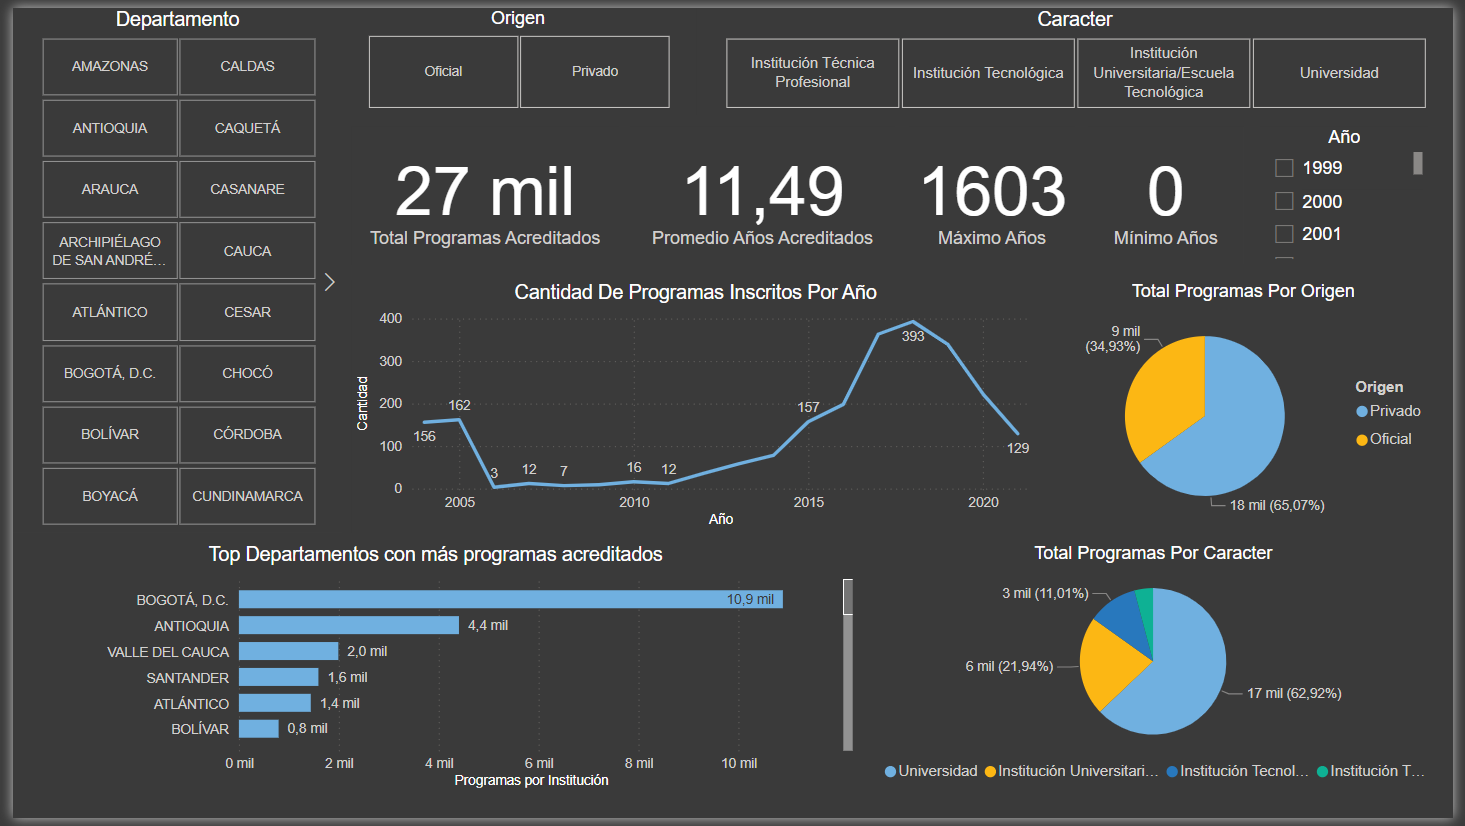

The dashboard page shown, as its layout file describes it:
{"tool":"powerbi","page":{"name":"Tendencia","canvas":[1280,720],"ordinal":1},"visuals":[{"type":"slicer","title":"Origen","fields":{"Values":["dim_origen.nombre_origen"]},"box":[290,0,317.8,95.6],"z":0},{"type":"slicer","title":"Departamento","fields":{"Values":["dim_departamentos.nom_dpto"]},"box":[0,0,292.5,466.2],"z":1000},{"type":"slicer","title":"Caracter","fields":{"Values":["dim_caracter.nombre_caracter"]},"box":[607.8,0,672.2,95.6],"z":2000},{"type":"card","fields":{"Values":["FAC_programas.Total Programas"]},"box":[301.2,105,237.5,122.5],"z":3000},{"type":"card","fields":{"Values":["FAC_programas.Promedio Años Acreditados"]},"box":[548.8,105,235,122.5],"z":4000},{"type":"card","fields":{"Values":["FAC_programas.Máximo Años Acreditados"]},"box":[796.2,105,147.5,122.5],"z":5000},{"type":"card","fields":{"Values":["FAC_programas.Mínimo Años Acreditados"]},"box":[955,105,138.8,122.5],"z":6000},{"type":"lineChart","title":"Cantidad De Programas Inscritos Por Año","fields":{"Category":["FAC_programas.fecha_acreditacion.Variación.Jerarquía de fechas.Año"],"Y":["Count(FAC_programas)"]},"box":[301.2,242.5,611.2,223.8],"z":7000},{"type":"barChart","title":"Top Departamentos con más programas acreditados","fields":{"Y":["FAC_programas.Programas por Institución"],"Category":["dim_departamentos.nom_dpto"]},"box":[0,475,751.2,222.5],"z":8000},{"type":"pieChart","title":"Total Programas Por Caracter","fields":{"Category":["dim_caracter.nombre_caracter"],"Y":["FAC_programas.Total Programas"]},"box":[761.2,475,505,222.5],"z":9000},{"type":"pieChart","title":"Total Programas Por Origen","fields":{"Category":["dim_origen.nombre_origen"],"Y":["FAC_programas.Total Programas"]},"box":[921.2,242.5,345,223.8],"z":10000},{"type":"slicer","title":"Año","fields":{"Values":["DIM_Fechas.Annio"]},"box":[1108.8,105,148.8,122.5],"z":11000}]}

Visuals, with their boxes in screenshot pixels (x1, y1, x2, y2), scaled from the page's 1280x720 canvas onto the 1465x826 screenshot:
"Origen" slicer: x1=332 y1=0 x2=696 y2=110
"Departamento" slicer: x1=0 y1=0 x2=335 y2=535
"Caracter" slicer: x1=696 y1=0 x2=1464 y2=110
card - FAC_programas.Total Programas: x1=345 y1=120 x2=617 y2=261
card - FAC_programas.Promedio Años Acreditados: x1=628 y1=120 x2=897 y2=261
card - FAC_programas.Máximo Años Acreditados: x1=911 y1=120 x2=1080 y2=261
card - FAC_programas.Mínimo Años Acreditados: x1=1093 y1=120 x2=1252 y2=261
"Cantidad De Programas Inscritos Por Año" lineChart: x1=345 y1=278 x2=1044 y2=535
"Top Departamentos con más programas acreditados" barChart: x1=0 y1=545 x2=860 y2=800
"Total Programas Por Caracter" pieChart: x1=871 y1=545 x2=1449 y2=800
"Total Programas Por Origen" pieChart: x1=1054 y1=278 x2=1449 y2=535
"Año" slicer: x1=1269 y1=120 x2=1439 y2=261
